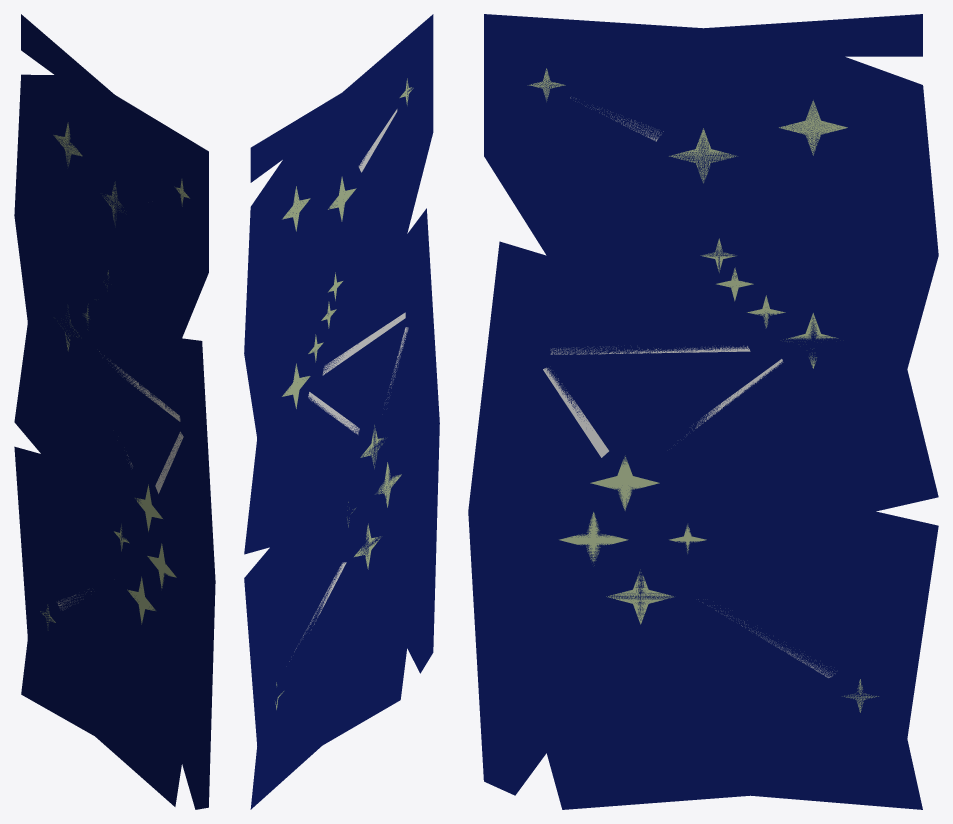
Rendered from obj_star_chart_1_0.obj.
The picture shows the model from 3 angles, left to right: view 1: azimuth 30°, elevation 25°; view 2: azimuth 150°, elevation 25°; view 3: azimuth 270°, elevation 25°; orthographic projection. The views are drawn at different scales.
Size of the model in its own units: 0 by 1.75 by 0.9375.
